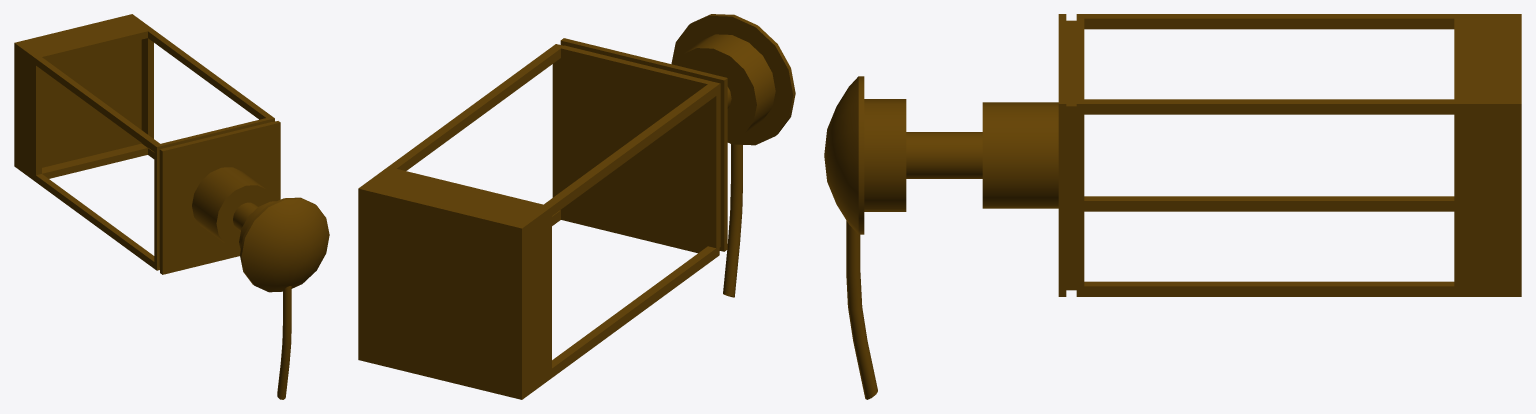
Rendered from MeshSoapBottle_28_0_GeomSubset_1.obj.
3 renders of one model, left to right at view 1: azimuth 30°, elevation 25°; view 2: azimuth 150°, elevation 25°; view 3: azimuth 270°, elevation 25°, orthographic. The views are drawn at different scales.
Visible parts, largest first — view 1: MeshSoapBottle_28_0_GeomSubset_1; view 2: MeshSoapBottle_28_0_GeomSubset_1; view 3: MeshSoapBottle_28_0_GeomSubset_1.
Boxes of the visible parts, x1,y1,x2,y2 form: MeshSoapBottle_28_0_GeomSubset_1: (14,14,329,399); MeshSoapBottle_28_0_GeomSubset_1: (358,14,795,399); MeshSoapBottle_28_0_GeomSubset_1: (824,14,1521,399).
Bounding box in the file's own units: 0.0719 × 0.1267 × 0.2357.
